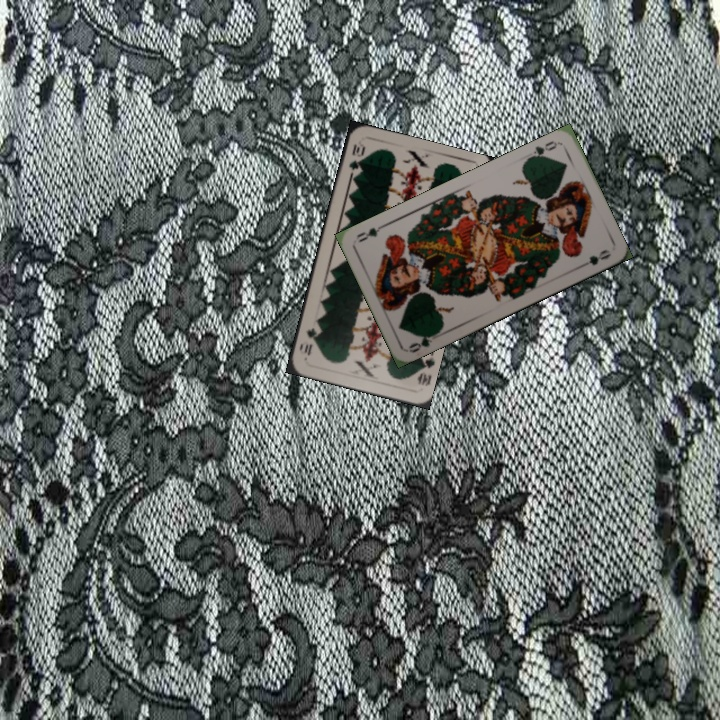G10: (413, 349, 437, 389), (345, 140, 367, 173)
GO: (404, 328, 442, 356), (524, 137, 561, 161)
